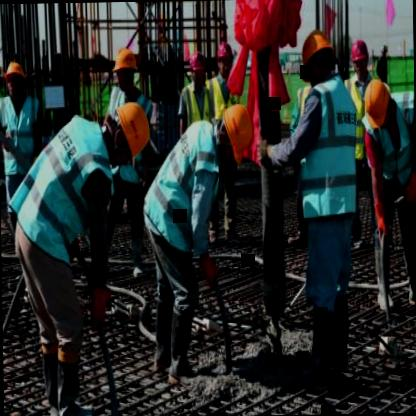helmet: (106, 94, 154, 167), (218, 102, 254, 168), (298, 28, 336, 88), (359, 72, 395, 132), (108, 43, 140, 94), (344, 30, 369, 76), (2, 56, 27, 100), (215, 36, 237, 79), (184, 49, 208, 86)
